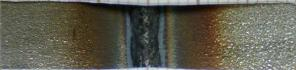soldas: (84, 3, 220, 69)
